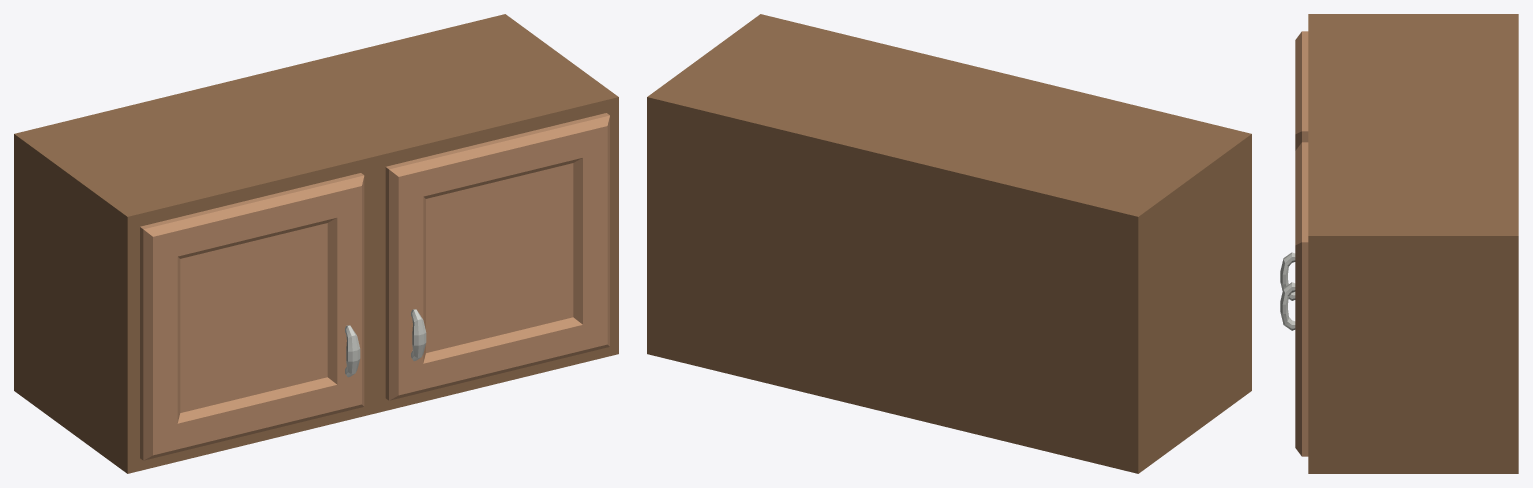
File: Kitchen_Cabinet_Wall_Short.obj
3 views of the same model, side by side, from view 1: azimuth 30°, elevation 25°; view 2: azimuth 150°, elevation 25°; view 3: azimuth 270°, elevation 25° (orthographic). The views are drawn at different scales.
Parts seen in each view (by area): view 1: object2, object3, object1, object5, object4; view 2: object2; view 3: object2, object1, object3, object4, object5.
Boxes of the visible parts, x1,y1,x2,y2 form: object2: (14, 14, 618, 473); object3: (140, 173, 364, 460); object1: (385, 113, 609, 400); object5: (345, 325, 360, 377); object4: (411, 309, 426, 361); object2: (647, 14, 1251, 473); object2: (1308, 14, 1518, 473); object1: (1295, 142, 1308, 456); object3: (1295, 31, 1308, 150); object4: (1280, 282, 1295, 330); object5: (1280, 252, 1295, 300).
Size of the model in its own units: 1 by 0.5 by 0.4531.
